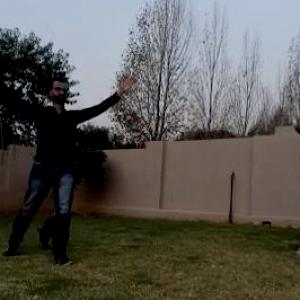takeoff: (0, 76, 119, 268)
